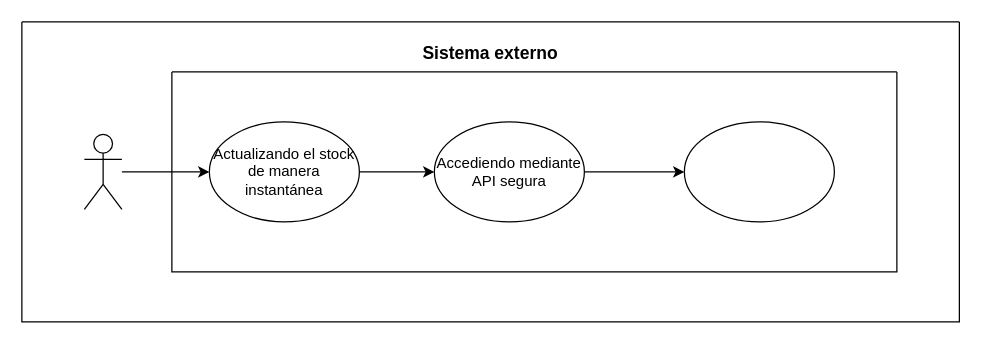
Image size: 981x344. Some labels were removed from this diagram. The shapes that lost their labels are listed below. From the top down, each one's centre as x and y in pixels, then its label:
At pixel 102 171: "Sistema".
At pixel 758 171: "Registrando movimiento de inventario vía API".
